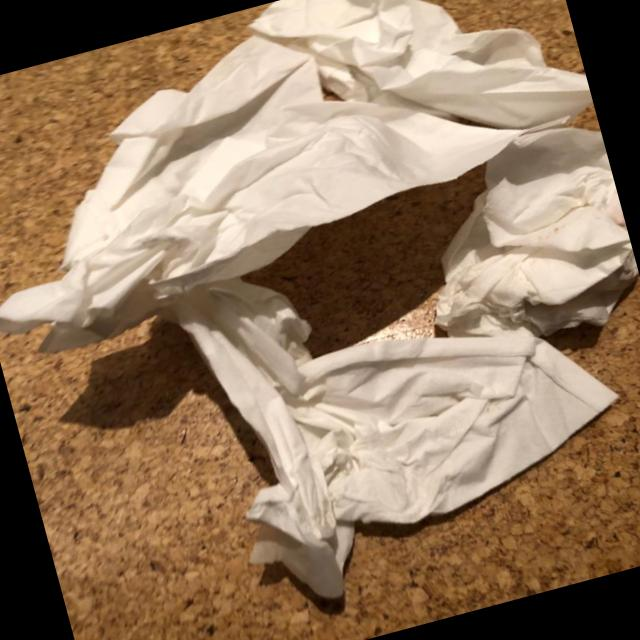organic waste: (149, 186, 640, 634), (0, 0, 575, 366), (236, 0, 595, 193), (391, 113, 640, 376)
